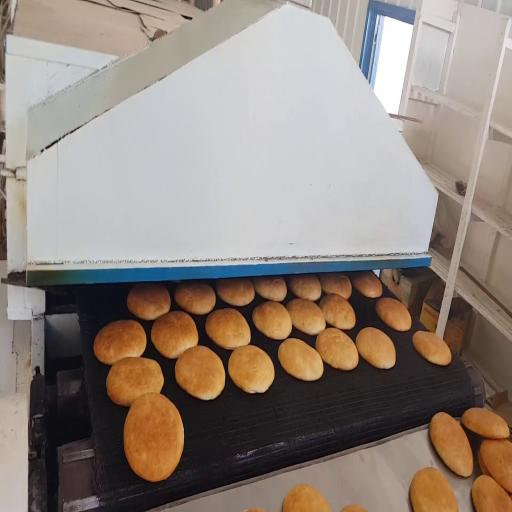bread: (124, 393, 183, 481), (106, 357, 163, 406), (430, 412, 473, 476), (175, 346, 225, 400), (94, 320, 146, 365), (151, 311, 198, 358), (228, 346, 274, 393), (410, 467, 458, 511), (278, 339, 323, 381), (316, 328, 358, 370), (206, 309, 250, 349), (480, 439, 511, 492), (356, 327, 395, 369), (127, 284, 170, 320), (252, 302, 292, 339), (462, 408, 509, 438), (287, 299, 325, 335), (472, 476, 511, 511), (175, 282, 215, 315), (413, 331, 451, 365), (283, 484, 330, 511), (320, 294, 355, 329), (376, 298, 411, 331), (216, 278, 254, 306), (253, 276, 287, 301), (351, 271, 382, 298), (289, 275, 321, 301), (319, 273, 351, 299), (478, 447, 489, 475), (342, 505, 366, 511), (245, 509, 265, 511)
